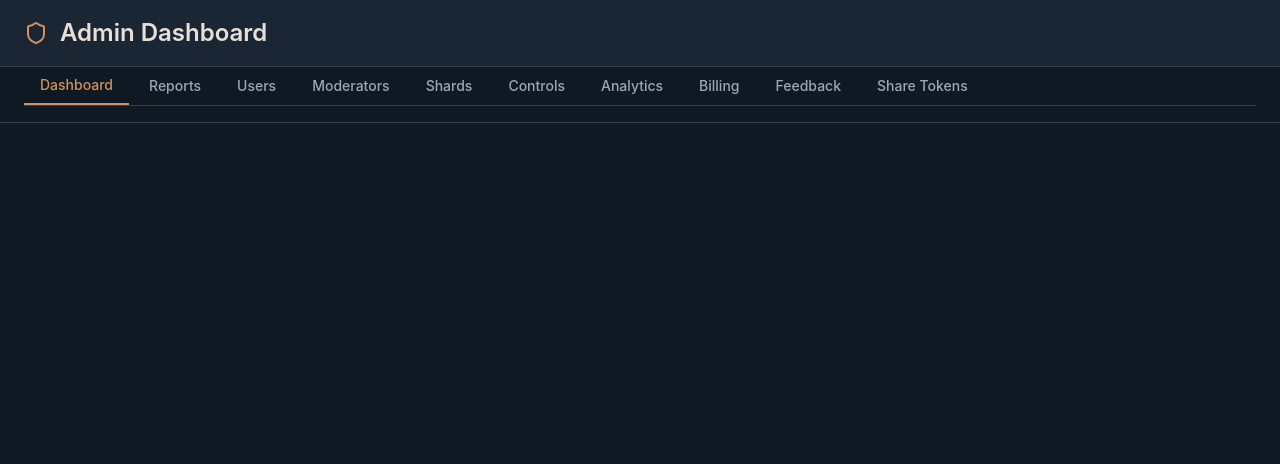
Test: the admin controls' own text comes from the locale (Rule 14) › the running badge
The width and height of the screenshot is (1280, 464).
Click the tab "Controls" at (537, 86), box x1=492 y1=67 x2=581 y2=105
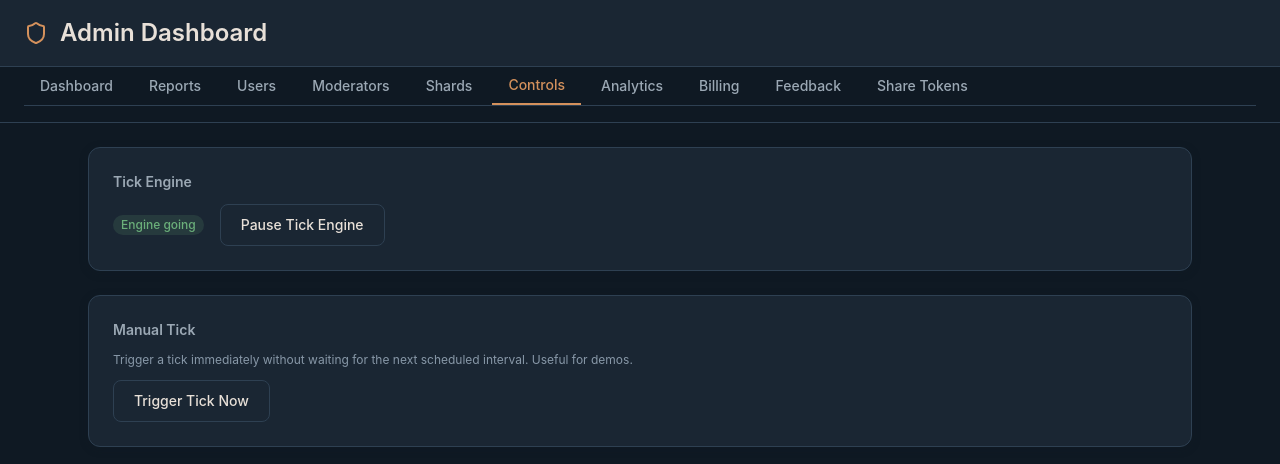
Result: the text "Engine going" is shown at x1=113 y1=215 x2=204 y2=235
